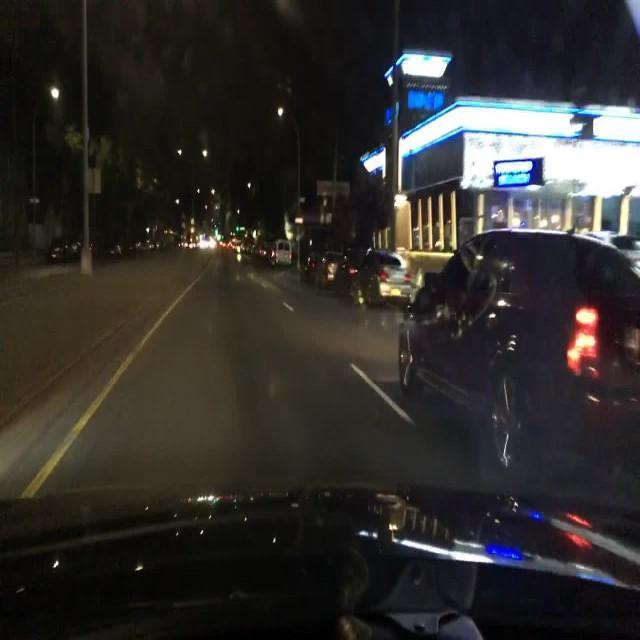normal: (392, 231, 635, 611), (351, 248, 414, 306)
